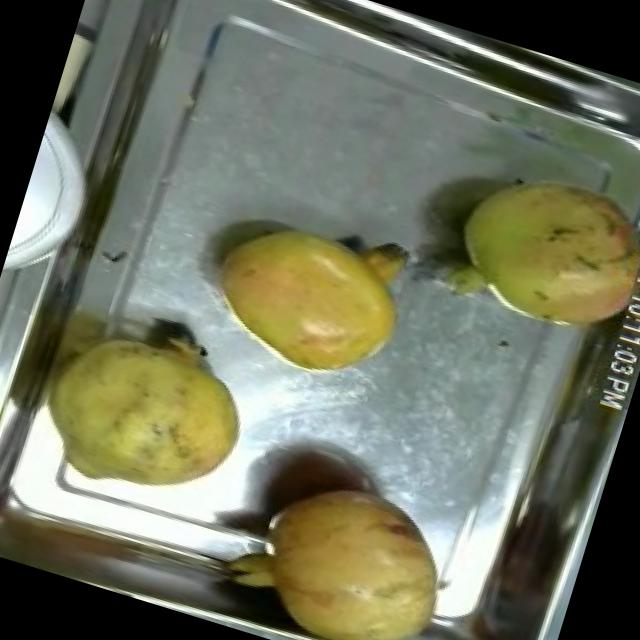fruit: (19, 294, 273, 526), (208, 450, 480, 640), (182, 193, 430, 401), (428, 139, 640, 358)
